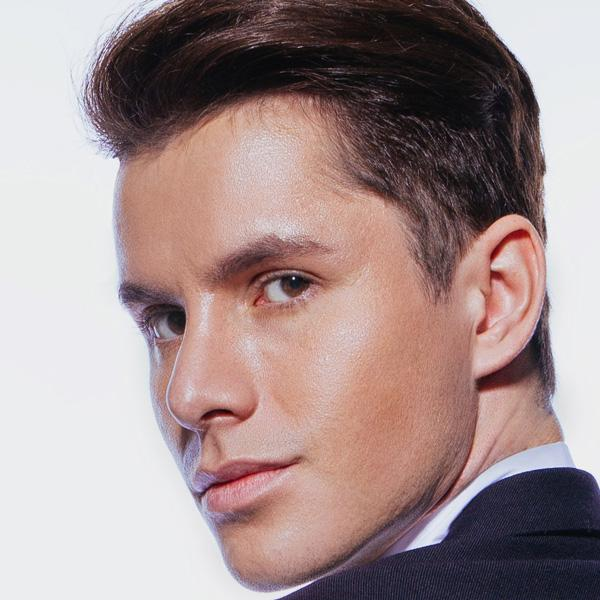Eyes: (242, 259, 329, 322), (139, 293, 199, 357)
